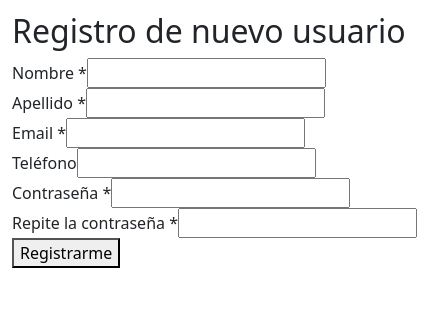
Test: muestra error si las contraseñas no coinciden
The image size is (434, 325).
Type "Nombre" into the field next to "Nombre *" at [206, 73], box [87,58,326,88]
Type "Apellido" into the field next to "Apellido *" at [206, 103], box [86,88,325,118]
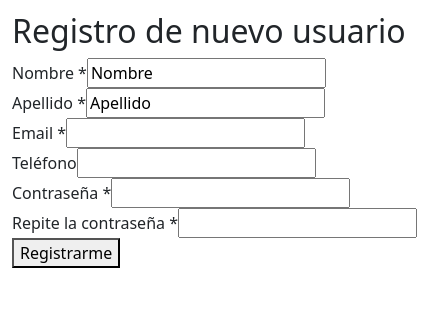
Type "test@example.com" into the field next to "Email *" at [186, 133], box [66,118,305,148]
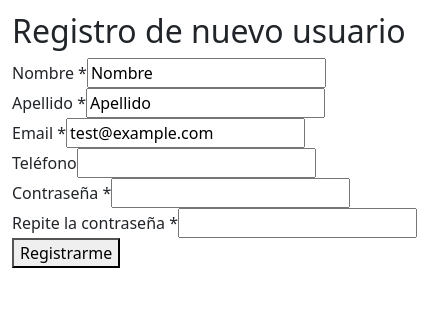
Type "600000000" into the field next to "Teléfono" at [196, 163], box [77,148,316,178]
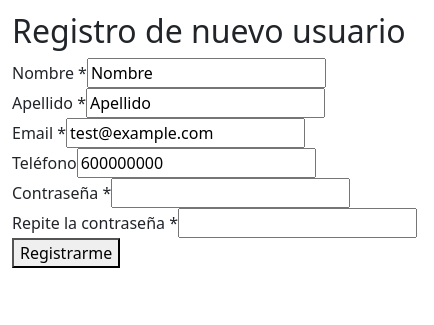
Type "123456" into the 1st password field at [231, 193], box [111,178,350,208]
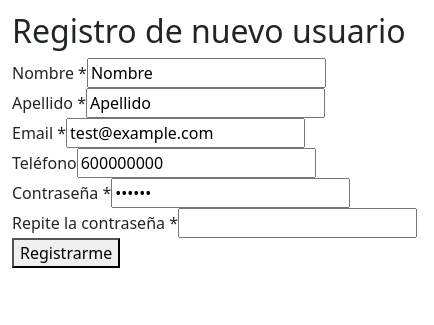
Type "654321" into the password field next to "Repite la contraseña *" at [298, 223], box [178,208,417,238]
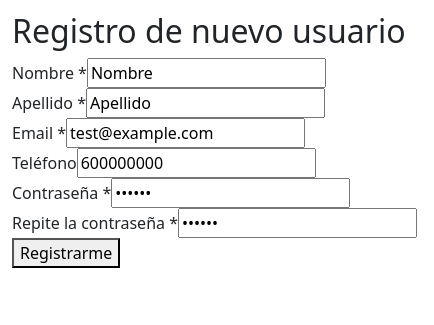
Click the button "Registrarme" at [66, 253], box [12,238,120,268]
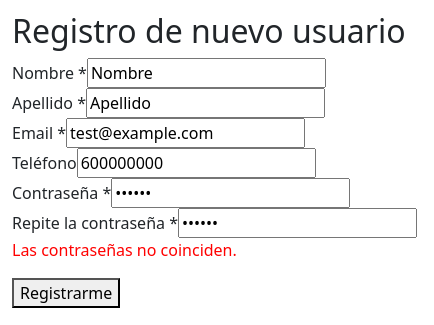
Result: the text "Las contraseñas no coinciden." is shown at [12,239,237,261]
